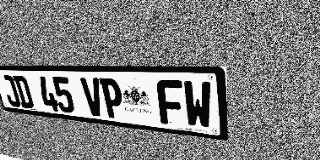4: (36, 76, 60, 112)
5: (52, 77, 76, 114)
D: (13, 75, 35, 109)
F: (156, 80, 185, 126)
J: (0, 75, 22, 107)
P: (99, 78, 125, 119)
V: (80, 77, 106, 117)
W: (183, 80, 213, 129)
